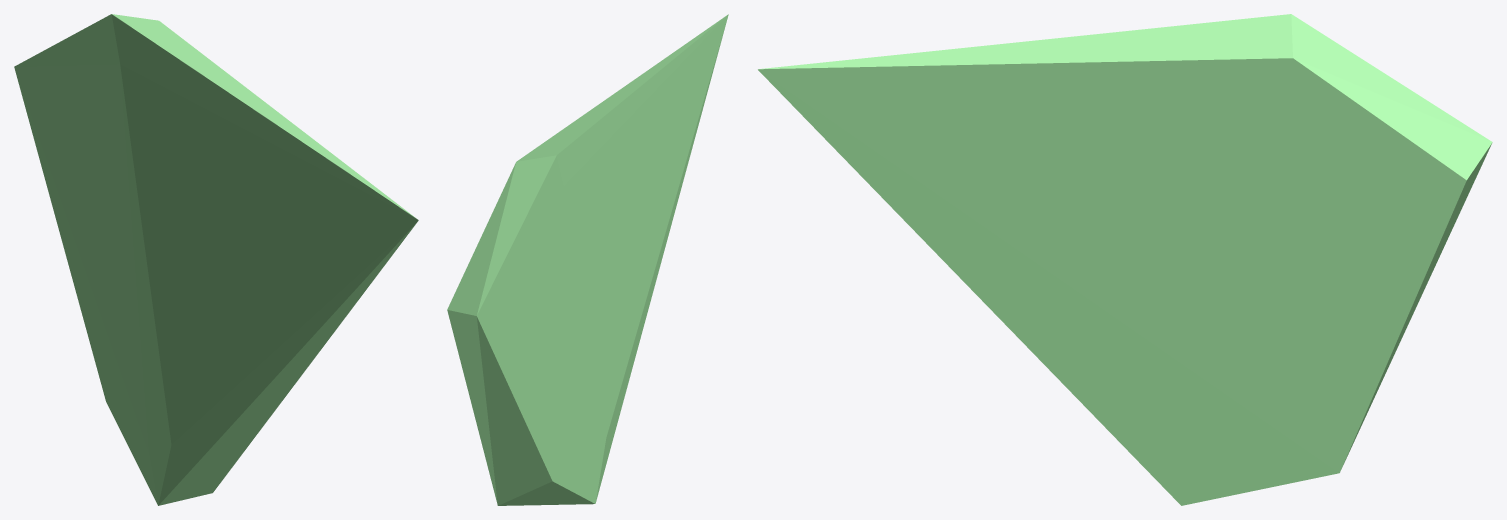
The model's file is linkhou_LR4_R560_link7_respondable_coll_37.dae.
The picture shows the model from 3 angles, left to right: view 1: azimuth 30°, elevation 25°; view 2: azimuth 150°, elevation 25°; view 3: azimuth 270°, elevation 25°; orthographic projection. The views are drawn at different scales.
Visible parts, largest first — view 1: Node_00000209DB3AB0A0; view 2: Node_00000209DB3AB0A0; view 3: Node_00000209DB3AB0A0.
Part boxes in pixels (left/top/right/bottom): Node_00000209DB3AB0A0: left=14, top=14, right=418, bottom=505; Node_00000209DB3AB0A0: left=447, top=14, right=728, bottom=505; Node_00000209DB3AB0A0: left=758, top=14, right=1492, bottom=505.
Size of the model in its own units: 0.00306 by 0.0271 by 0.0381.
